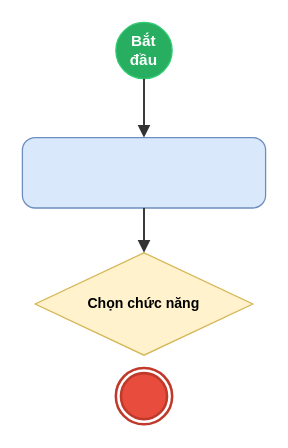
The diagram is 288 pixels wide and 448 high, and some of its shapes have lost their labels. Here are the shapes that lost their labels. From the top down, the centre of each, then its label:
At point 143,172: "Hiển thị Menu".
At point 143,395: "Thoát".
